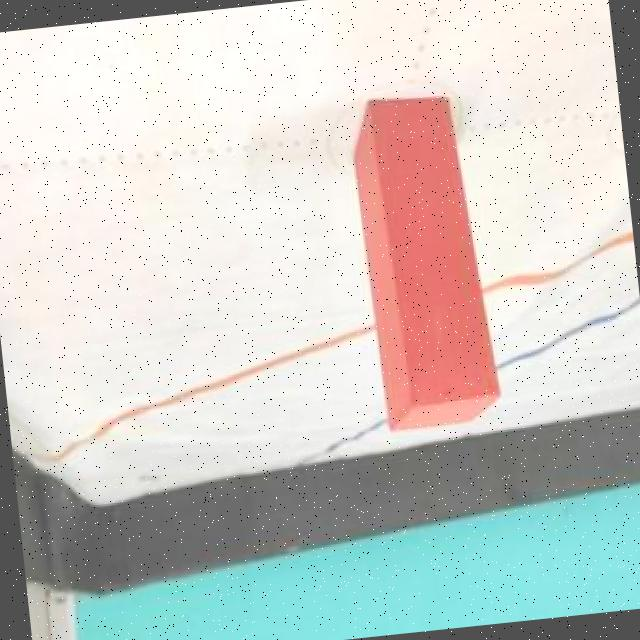redbox: (348, 86, 503, 436)
